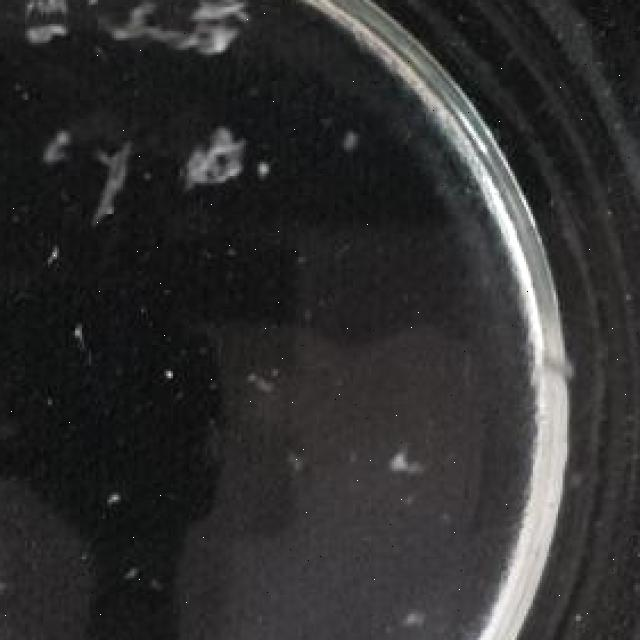Microplastic: (82, 0, 257, 67), (176, 116, 250, 200), (82, 143, 139, 231), (18, 0, 77, 59), (36, 119, 73, 171), (385, 438, 421, 485), (398, 599, 430, 640), (339, 117, 360, 164)
